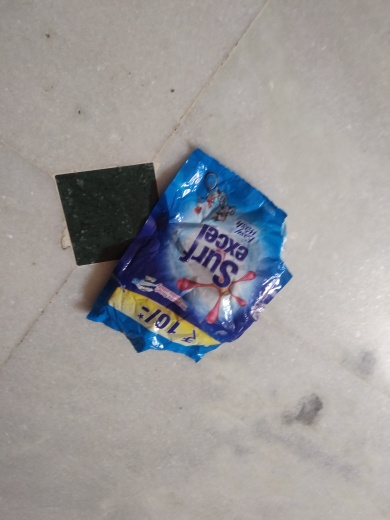surf: (95, 128, 307, 367)
